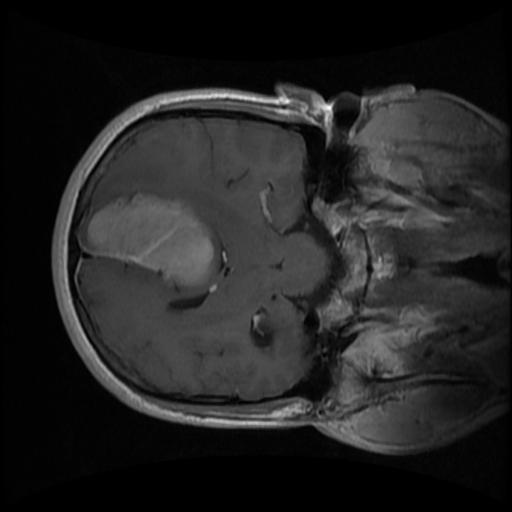meningioma: (84, 190, 220, 287)
